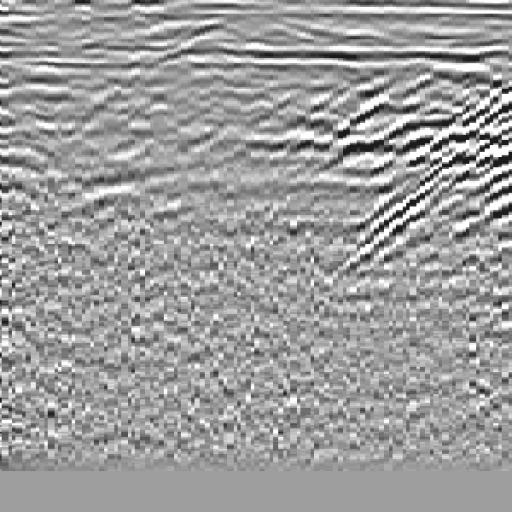metalic: (40, 44, 201, 278)
nonmetalic: (351, 59, 512, 279)
